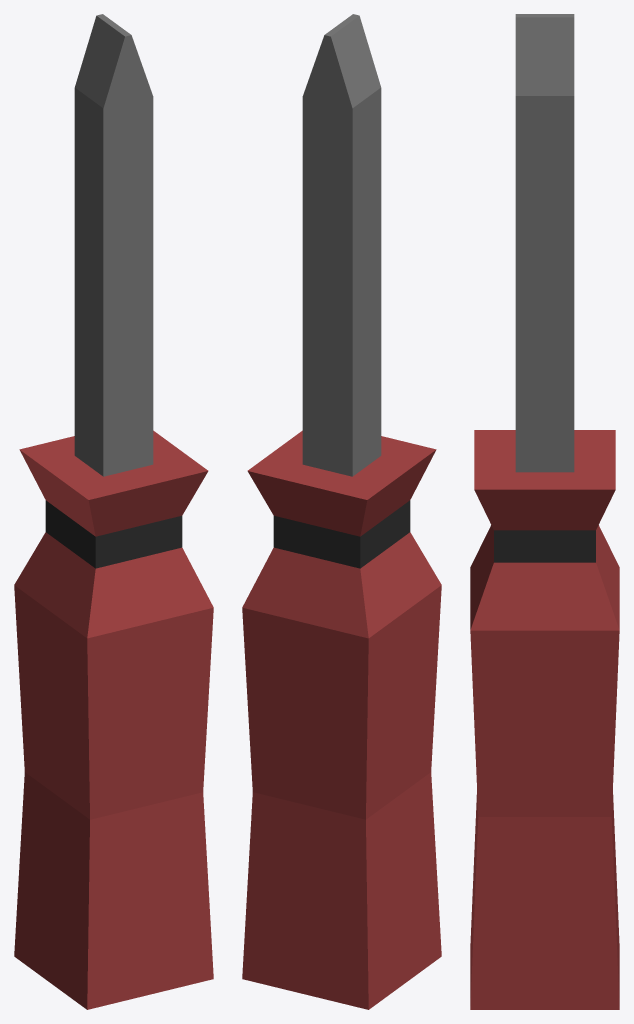
File: ScrewDriverRed.fbx
The picture shows the model from 3 angles, left to right: view 1: azimuth 30°, elevation 25°; view 2: azimuth 150°, elevation 25°; view 3: azimuth 270°, elevation 25°; orthographic projection. The views are drawn at different scales.
Visible parts, largest first — view 1: ScrewDriverRed; view 2: ScrewDriverRed; view 3: ScrewDriverRed.
Boxes of the visible parts, x1,y1,x2,y2 form: ScrewDriverRed: (14, 14, 213, 1009); ScrewDriverRed: (242, 14, 441, 1009); ScrewDriverRed: (470, 14, 619, 1009).
Size of the model in its own units: 0.0496 by 0.3528 by 0.0496.
